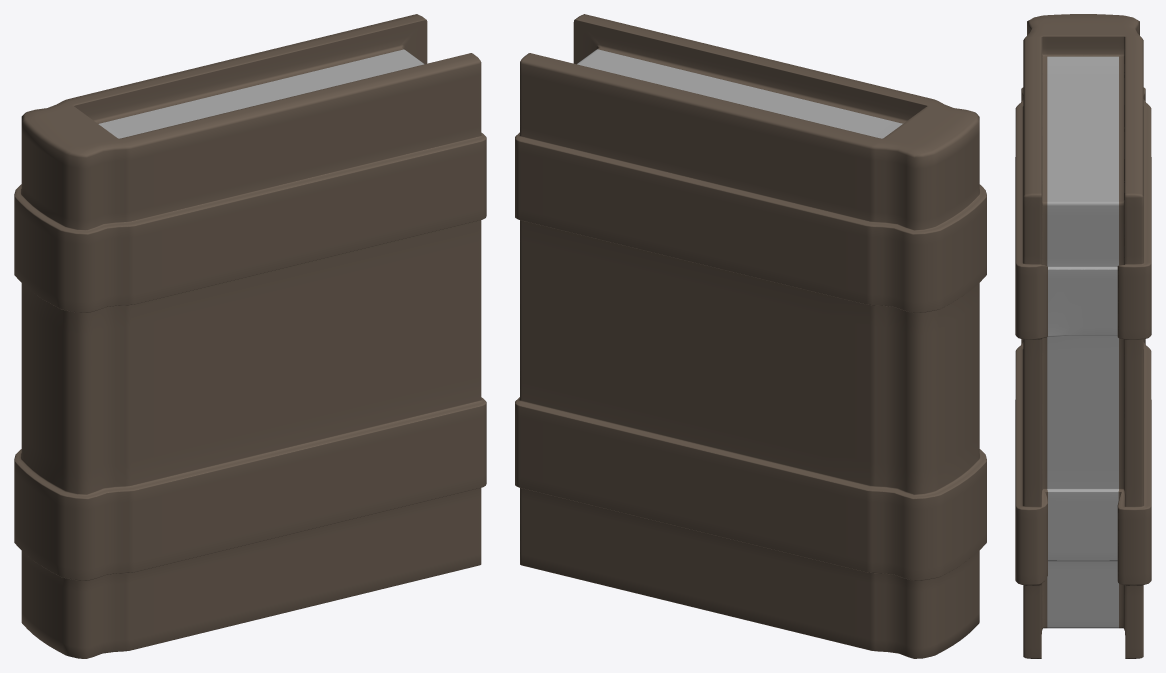
The model's file is Book1.fbx.
3 renders of one model, left to right at view 1: azimuth 30°, elevation 25°; view 2: azimuth 150°, elevation 25°; view 3: azimuth 270°, elevation 25°, orthographic. The views are drawn at different scales.
Visible parts, largest first — view 1: pCube48; view 2: pCube48; view 3: pCube48.
Boxes of the visible parts, x1,y1,x2,y2 form: pCube48: [14, 14, 486, 658]; pCube48: [515, 14, 986, 658]; pCube48: [1015, 14, 1151, 658].
Size of the model in its own units: 2.59 by 2.98 by 0.7905.
